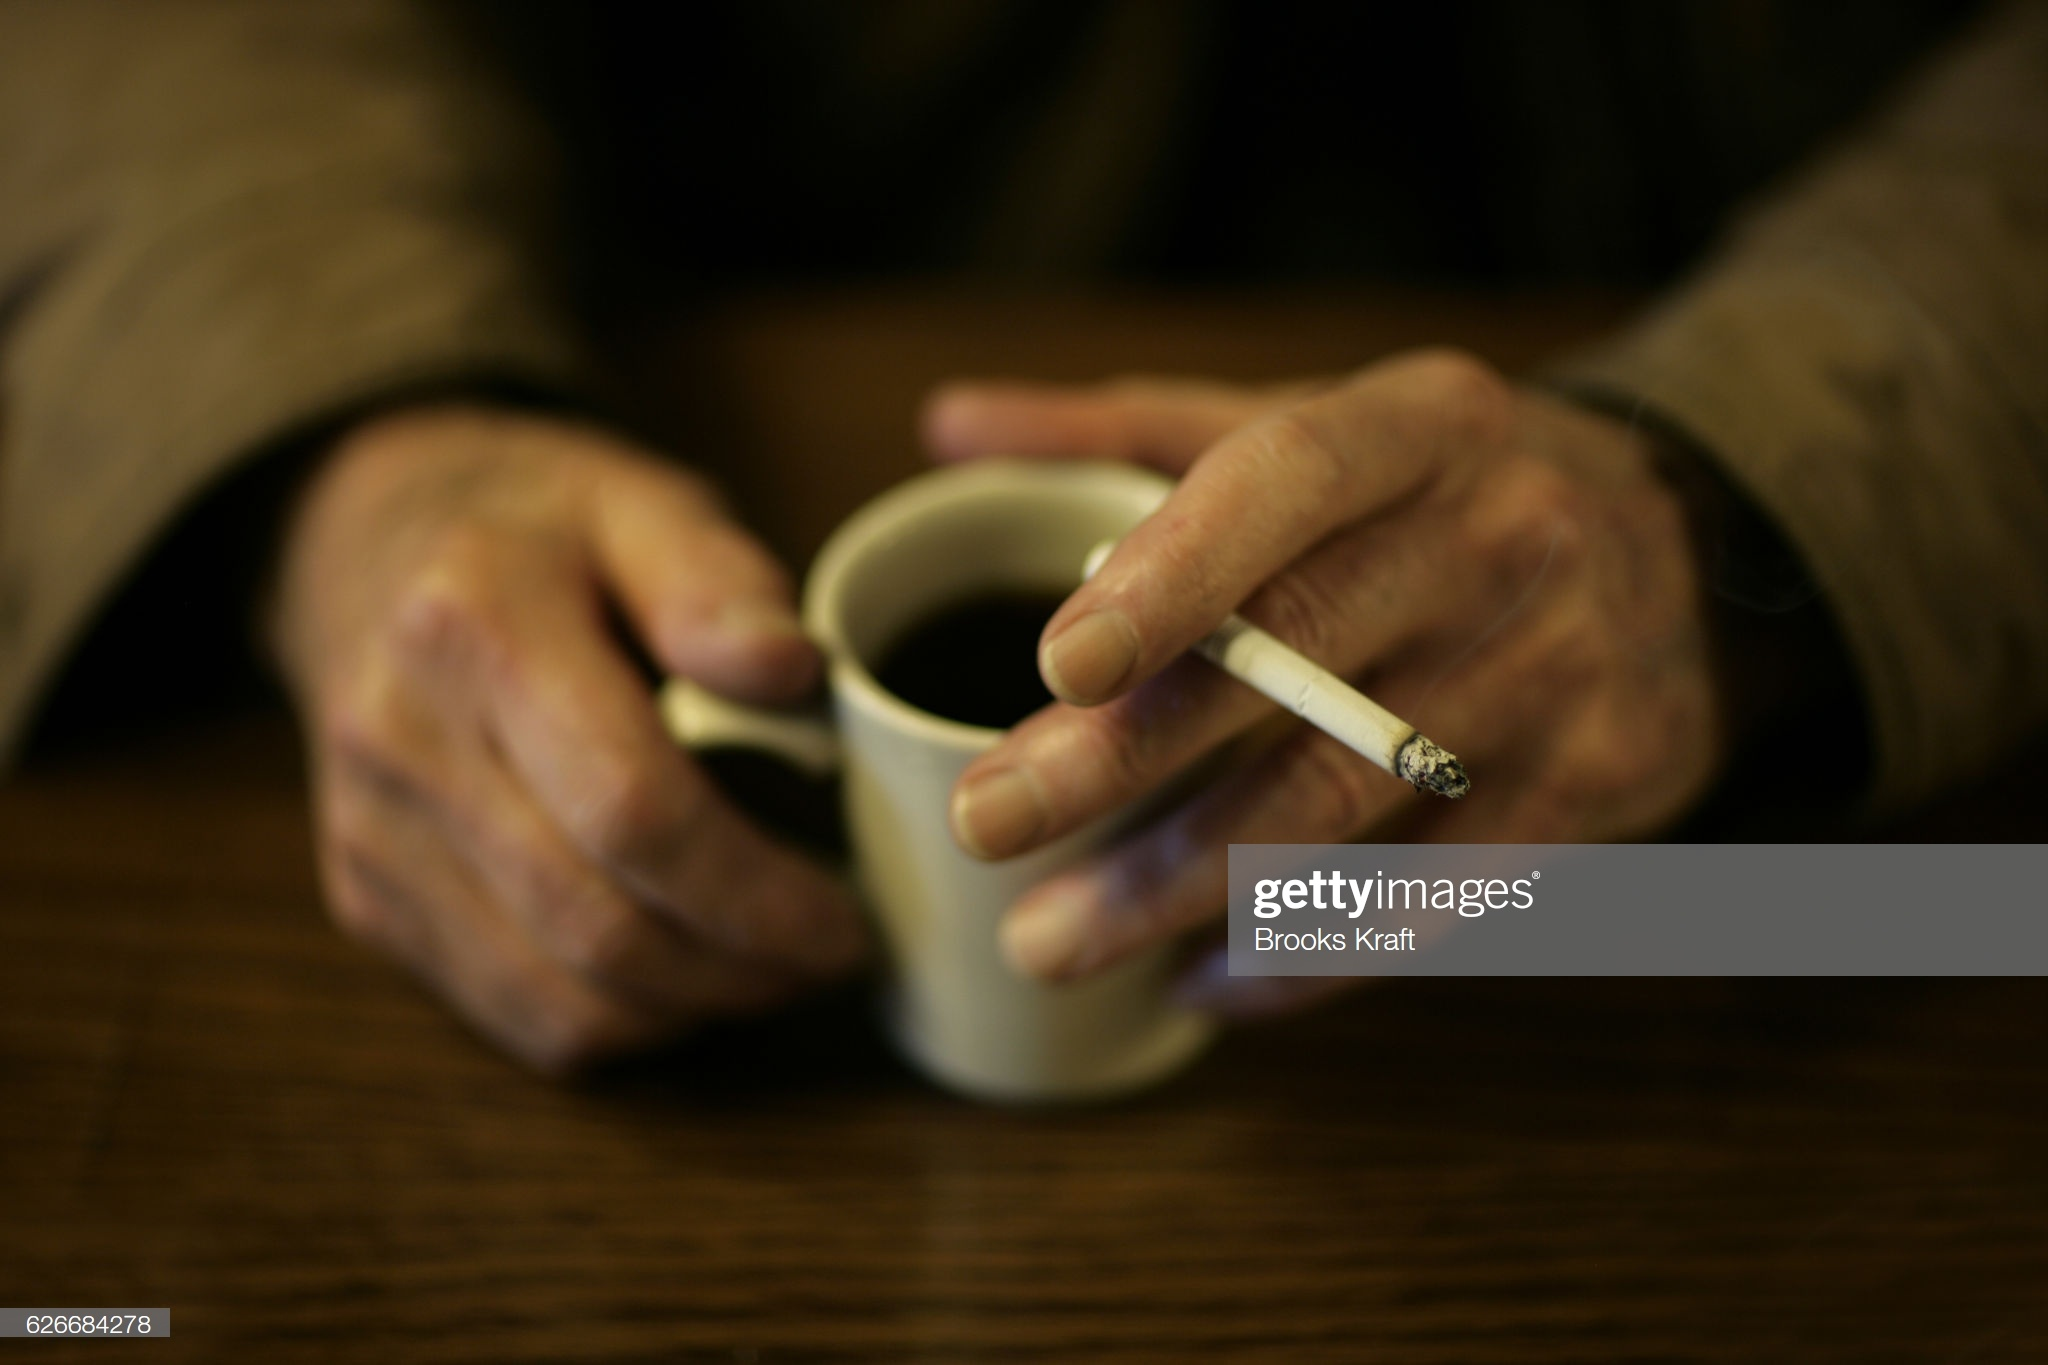sigaretta: (1116, 561, 1475, 804)
